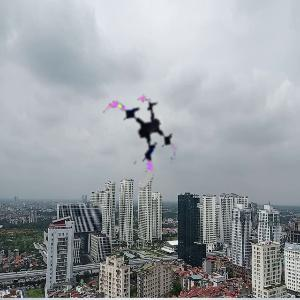drone: (97, 88, 188, 179)
